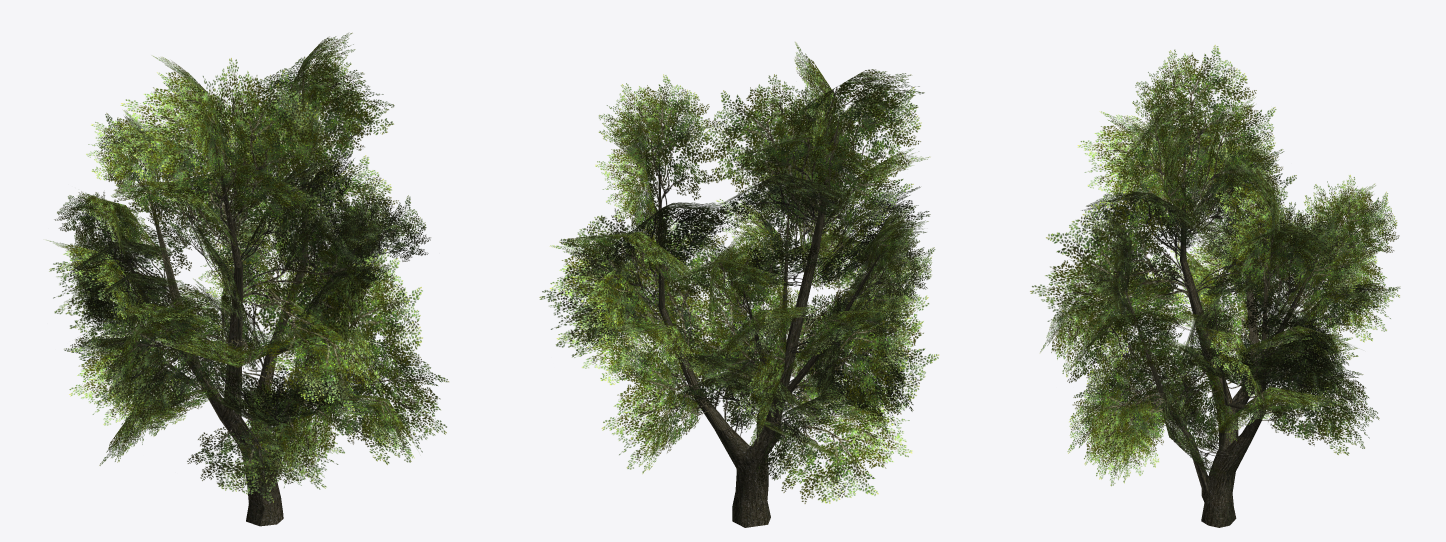
Rendered from tree702.glb.
3 renders of one model, left to right at view 1: azimuth 30°, elevation 25°; view 2: azimuth 150°, elevation 25°; view 3: azimuth 270°, elevation 25°, orthographic. The views are drawn at different scales.
Parts seen in each view (by area): view 1: tree702; view 2: tree702; view 3: tree702.
Boxes of the visible parts, x1,y1,x2,y2 form: tree702: [46, 32, 448, 526]; tree702: [539, 42, 938, 527]; tree702: [1030, 45, 1400, 527].
Size of the model in its own units: 19.81 by 24.81 by 21.65.
Materials: 2 (2 with a texture image).
